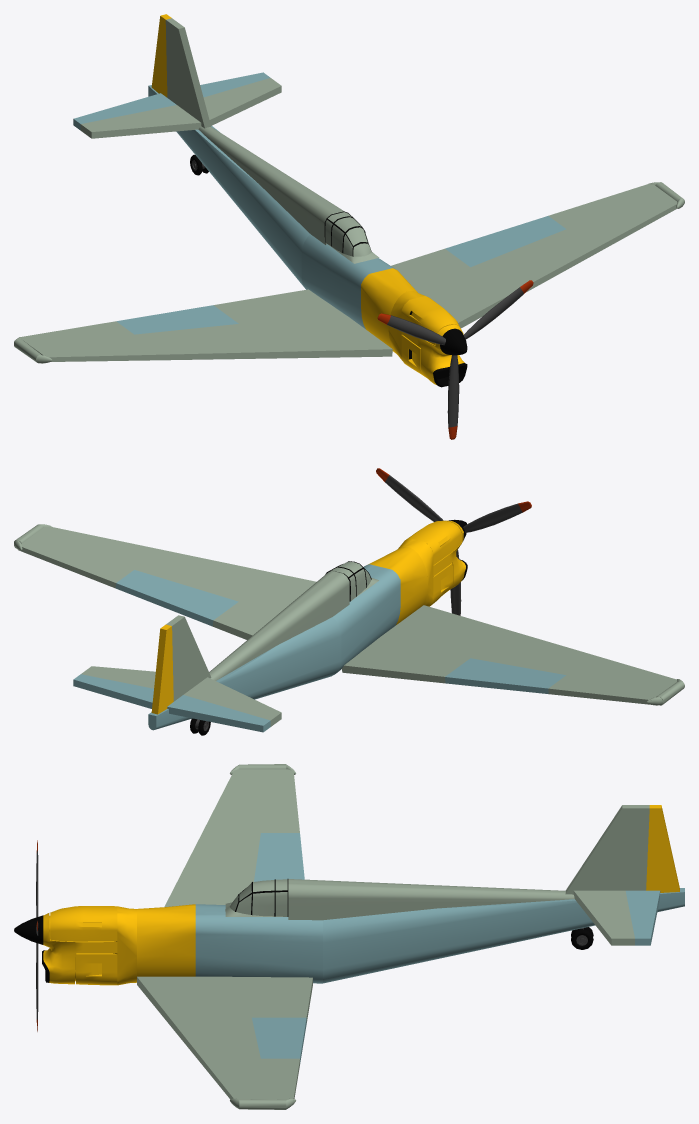
File: BF109 DerpThunder export_export.obj
3 renders of one model, top to bottom at view 1: azimuth 30°, elevation 25°; view 2: azimuth 150°, elevation 25°; view 3: azimuth 270°, elevation 25°, orthographic. The views are drawn at different scales.
Visible parts, largest first — view 1: Mesh_20, Mesh_27, Mesh_10, Mesh_9, Mesh_8, TurboProp_Base_1, Mesh_11, Control Surface_28, Mesh_18, Mesh_6, Control Surface_21, Mesh_25 (+8 smaller); view 2: Mesh_20, Mesh_27, Mesh_10, Mesh_9, Mesh_8, Control Surface_28, Control Surface_21, TurboProp_Base_1, Mesh_6, Mesh_11, Control Surface_19, Mesh_18 (+7 smaller); view 3: Mesh_27, Mesh_10, Mesh_20, Mesh_8, Mesh_9, TurboProp_Base_1, Mesh_11, Mesh_6, Mesh_25, Control Surface_21, Control Surface_12, Control Surface_28 (+5 smaller).
Part boxes in pixels (x1,y1,x2,y2): Mesh_20: [21, 289, 392, 361]; Mesh_27: [391, 184, 677, 328]; Mesh_10: [148, 85, 309, 286]; Mesh_9: [198, 126, 344, 244]; Mesh_8: [301, 234, 395, 329]; TurboProp_Base_1: [401, 296, 467, 387]; Mesh_11: [165, 18, 211, 128]; Control Surface_28: [445, 216, 566, 267]; Mesh_18: [80, 105, 201, 138]; Mesh_6: [361, 268, 417, 353]; Control Surface_21: [116, 305, 238, 334]; Mesh_25: [203, 78, 281, 125]; Mesh_20: [342, 605, 677, 704]; Mesh_27: [18, 526, 316, 639]; Mesh_10: [148, 617, 341, 730]; Mesh_9: [209, 571, 349, 680]; Mesh_8: [333, 564, 400, 673]; Control Surface_28: [115, 570, 238, 626]; Control Surface_21: [445, 658, 565, 693]; TurboProp_Base_1: [406, 520, 467, 605]; Mesh_6: [368, 547, 427, 624]; Mesh_11: [166, 615, 211, 701]; Control Surface_19: [167, 695, 270, 732]; Mesh_18: [183, 677, 281, 726]; Mesh_27: [137, 976, 312, 1104]; Mesh_10: [323, 888, 684, 983]; Mesh_20: [164, 769, 299, 907]; Mesh_8: [195, 904, 322, 983]; Mesh_9: [288, 879, 574, 920]; TurboProp_Base_1: [42, 906, 117, 985]; Mesh_11: [565, 805, 649, 894]; Mesh_6: [137, 904, 195, 976]; Mesh_25: [573, 890, 634, 945]; Control Surface_21: [254, 833, 304, 881]; Control Surface_12: [646, 805, 679, 892]; Control Surface_28: [252, 1017, 306, 1063].
Size of what is drawn, in the model's own units: 10.25 by 3.18 by 8.57.
Materials: 1 (1 with a texture image).
